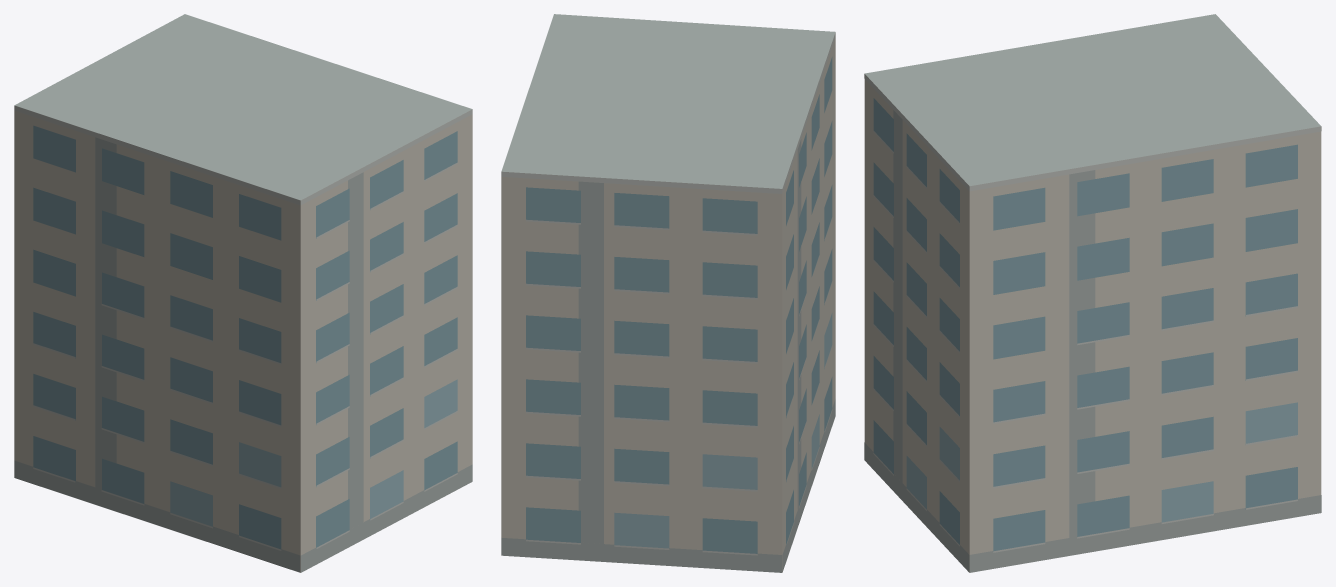
The model's file is survey-upis-33010027.glb.
The picture shows the model from 3 angles, left to right: view 1: azimuth 30°, elevation 25°; view 2: azimuth 150°, elevation 25°; view 3: azimuth 270°, elevation 25°; orthographic projection. The views are drawn at different scales.
Visible parts, largest first — view 1: survey-upis-33010027.tmp; view 2: survey-upis-33010027.tmp; view 3: survey-upis-33010027.tmp.
Part boxes in pixels (x1,y1,x2,y2): survey-upis-33010027.tmp: [14, 14, 472, 572]; survey-upis-33010027.tmp: [501, 14, 835, 572]; survey-upis-33010027.tmp: [864, 14, 1321, 572].
Bounding box in the file's own units: 17.49 × 18.3 × 19.61.
